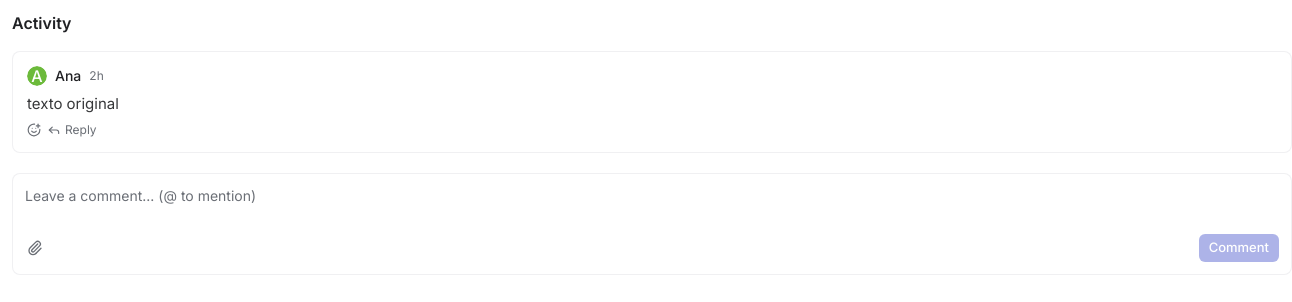
it: #27 ações de comentário otimistas › reação aparece antes da API e não recarrega o detail
The image size is (1292, 302).
Click the button named "Add reaction": (34, 130) [27,123,41,137]
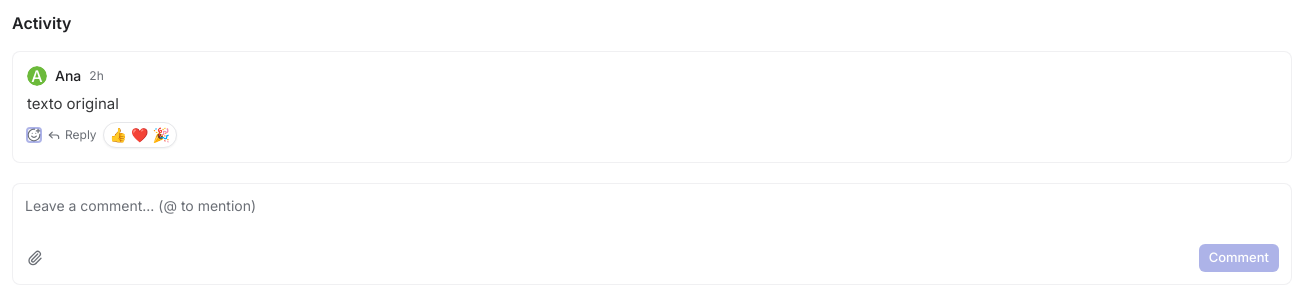
Click the button "👍": (118, 135) [110,125,127,145]
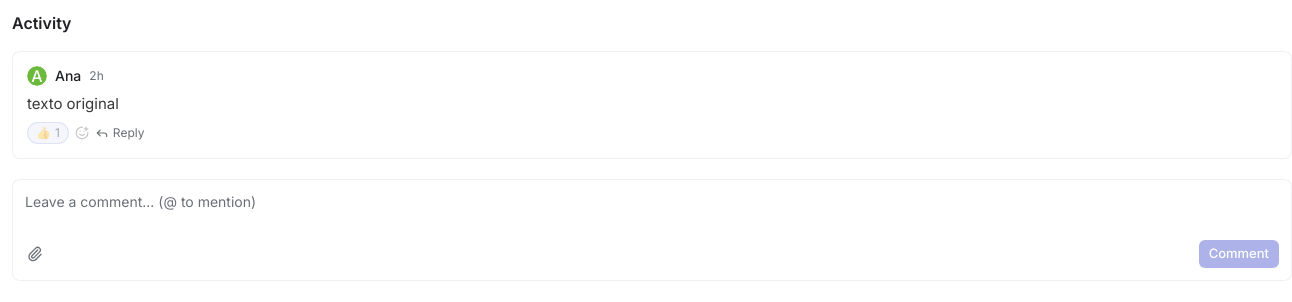
Now the button "👍 1" is shown, box [27,122,69,144]
